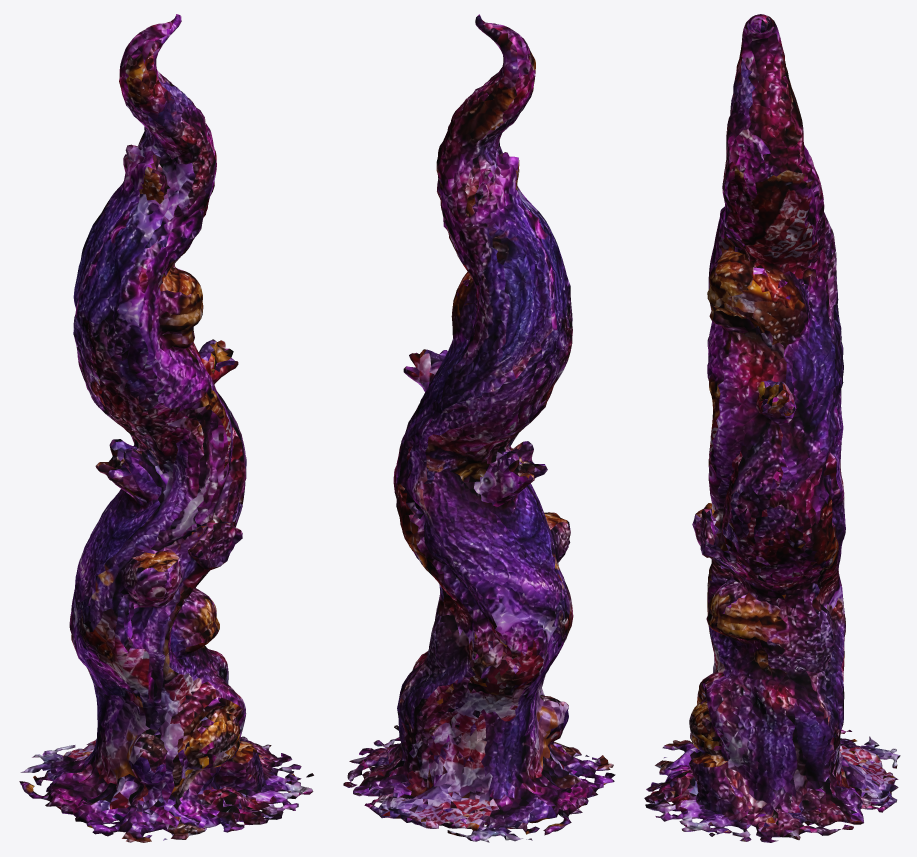
Rendered from tentacle2.glb.
The picture shows the model from 3 angles, left to right: view 1: azimuth 30°, elevation 25°; view 2: azimuth 150°, elevation 25°; view 3: azimuth 270°, elevation 25°; orthographic projection.
Parts seen in each view (by area): view 1: temp_mesh.ply.003; view 2: temp_mesh.ply.003; view 3: temp_mesh.ply.003.
Boxes of the visible parts, box(x1,y1,x2,y2) form: temp_mesh.ply.003: box(19, 14, 313, 842); temp_mesh.ply.003: box(343, 14, 615, 842); temp_mesh.ply.003: box(644, 14, 900, 842).
Size of the model in its own units: 0.6263 by 1.97 by 0.5982.
1 material, 1 textured.
